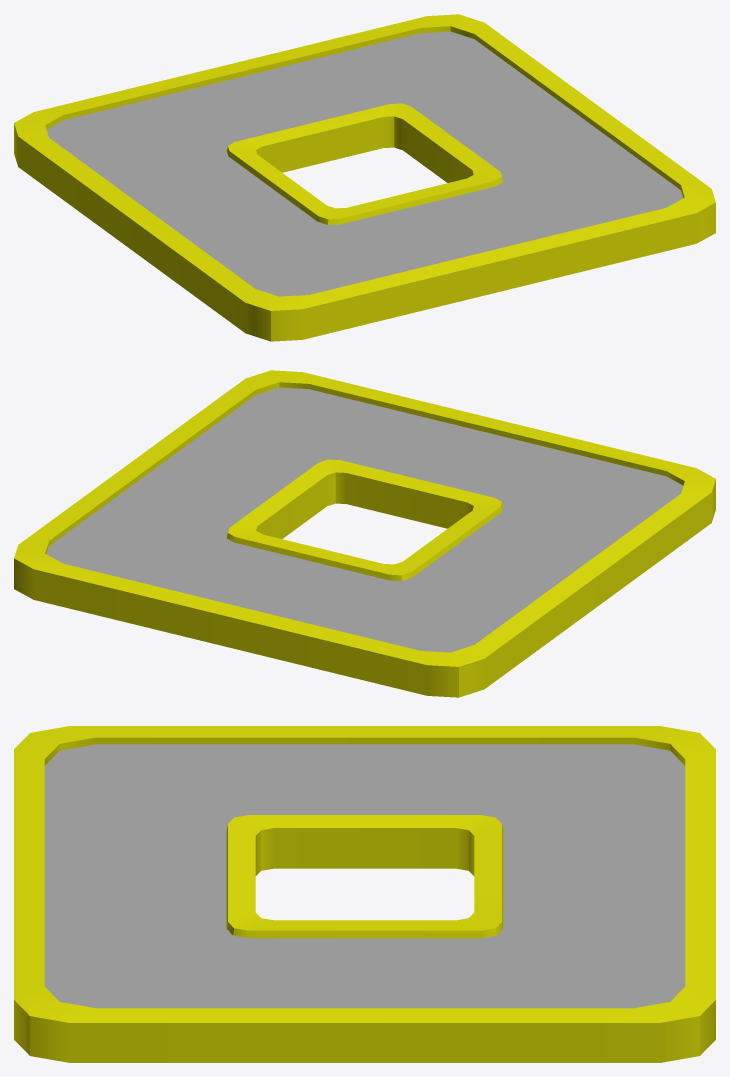
File: Roof3BLOD1.fbx
The picture shows the model from 3 angles, top to bottom: view 1: azimuth 30°, elevation 25°; view 2: azimuth 150°, elevation 25°; view 3: azimuth 270°, elevation 25°; orthographic projection. The views are drawn at different scales.
Parts seen in each view (by area): view 1: Roof3B_LOD1; view 2: Roof3B_LOD1; view 3: Roof3B_LOD1.
Part boxes in pixels (x1,y1,x2,y2): Roof3B_LOD1: [14, 14, 715, 341]; Roof3B_LOD1: [14, 370, 715, 697]; Roof3B_LOD1: [14, 726, 715, 1062].
Bounding box in the file's own units: 518 × 35.22 × 518.
